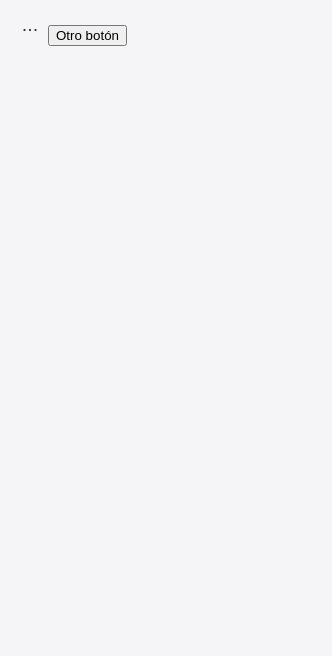
Test: menú «Más acciones» › abre «Propiedades del documento…» con su atajo visible y el foco en la primera entrada
This screenshot has width=332, height=656.
Step 1. Click the button named "Más acciones" → click(30, 30), box [12,12,48,48]
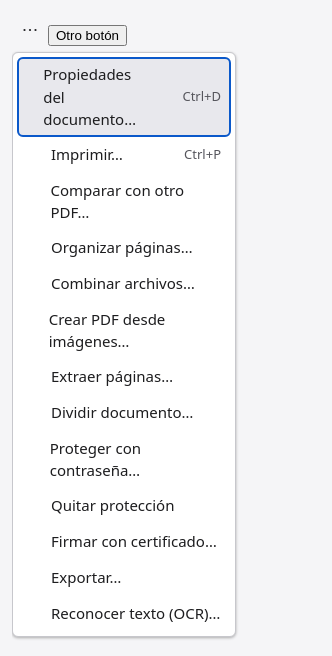
Expected: the text "Ctrl+D" is shown, [182,87,221,105]
